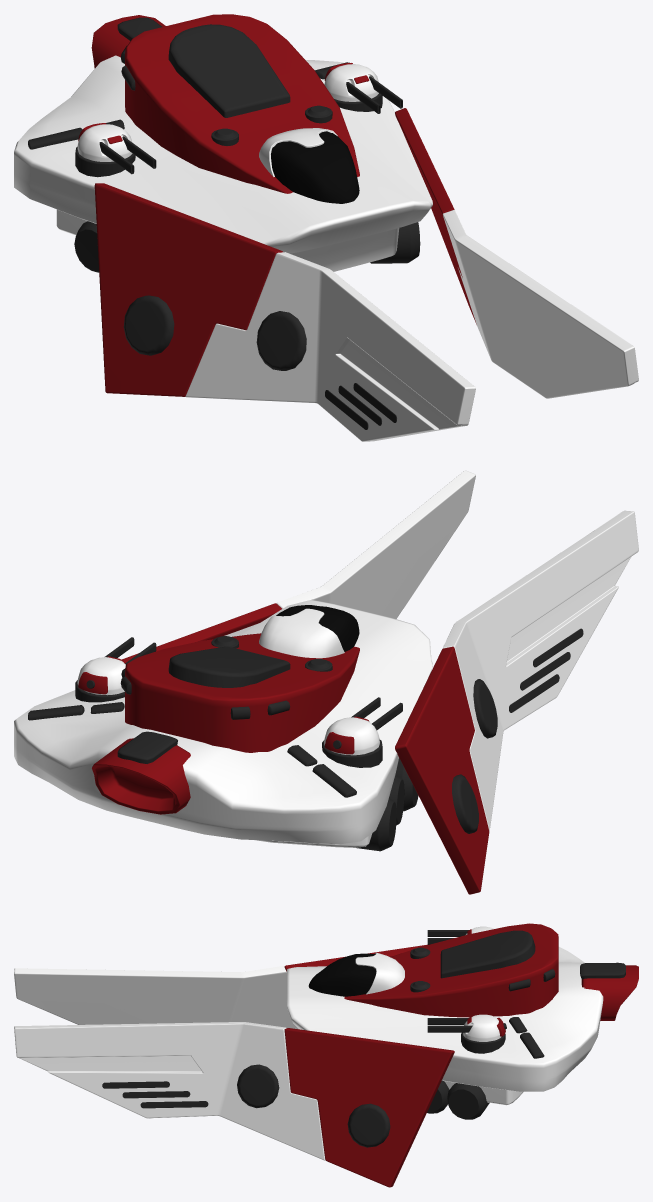
Rendered from enemy.glb.
The picture shows the model from 3 angles, top to bottom: view 1: azimuth 30°, elevation 25°; view 2: azimuth 150°, elevation 25°; view 3: azimuth 270°, elevation 25°; orthographic projection. The views are drawn at different scales.
Parts seen in each view (by area): view 1: enemy; view 2: enemy; view 3: enemy.
Boxes of the visible parts, left/top/right/bottom form: enemy: left=14, top=14, right=638, bottom=441; enemy: left=14, top=470, right=638, bottom=894; enemy: left=14, top=923, right=638, bottom=1187.
Size of the model in its own units: 1.15 by 0.74 by 2.27.
1 material, 1 textured.
